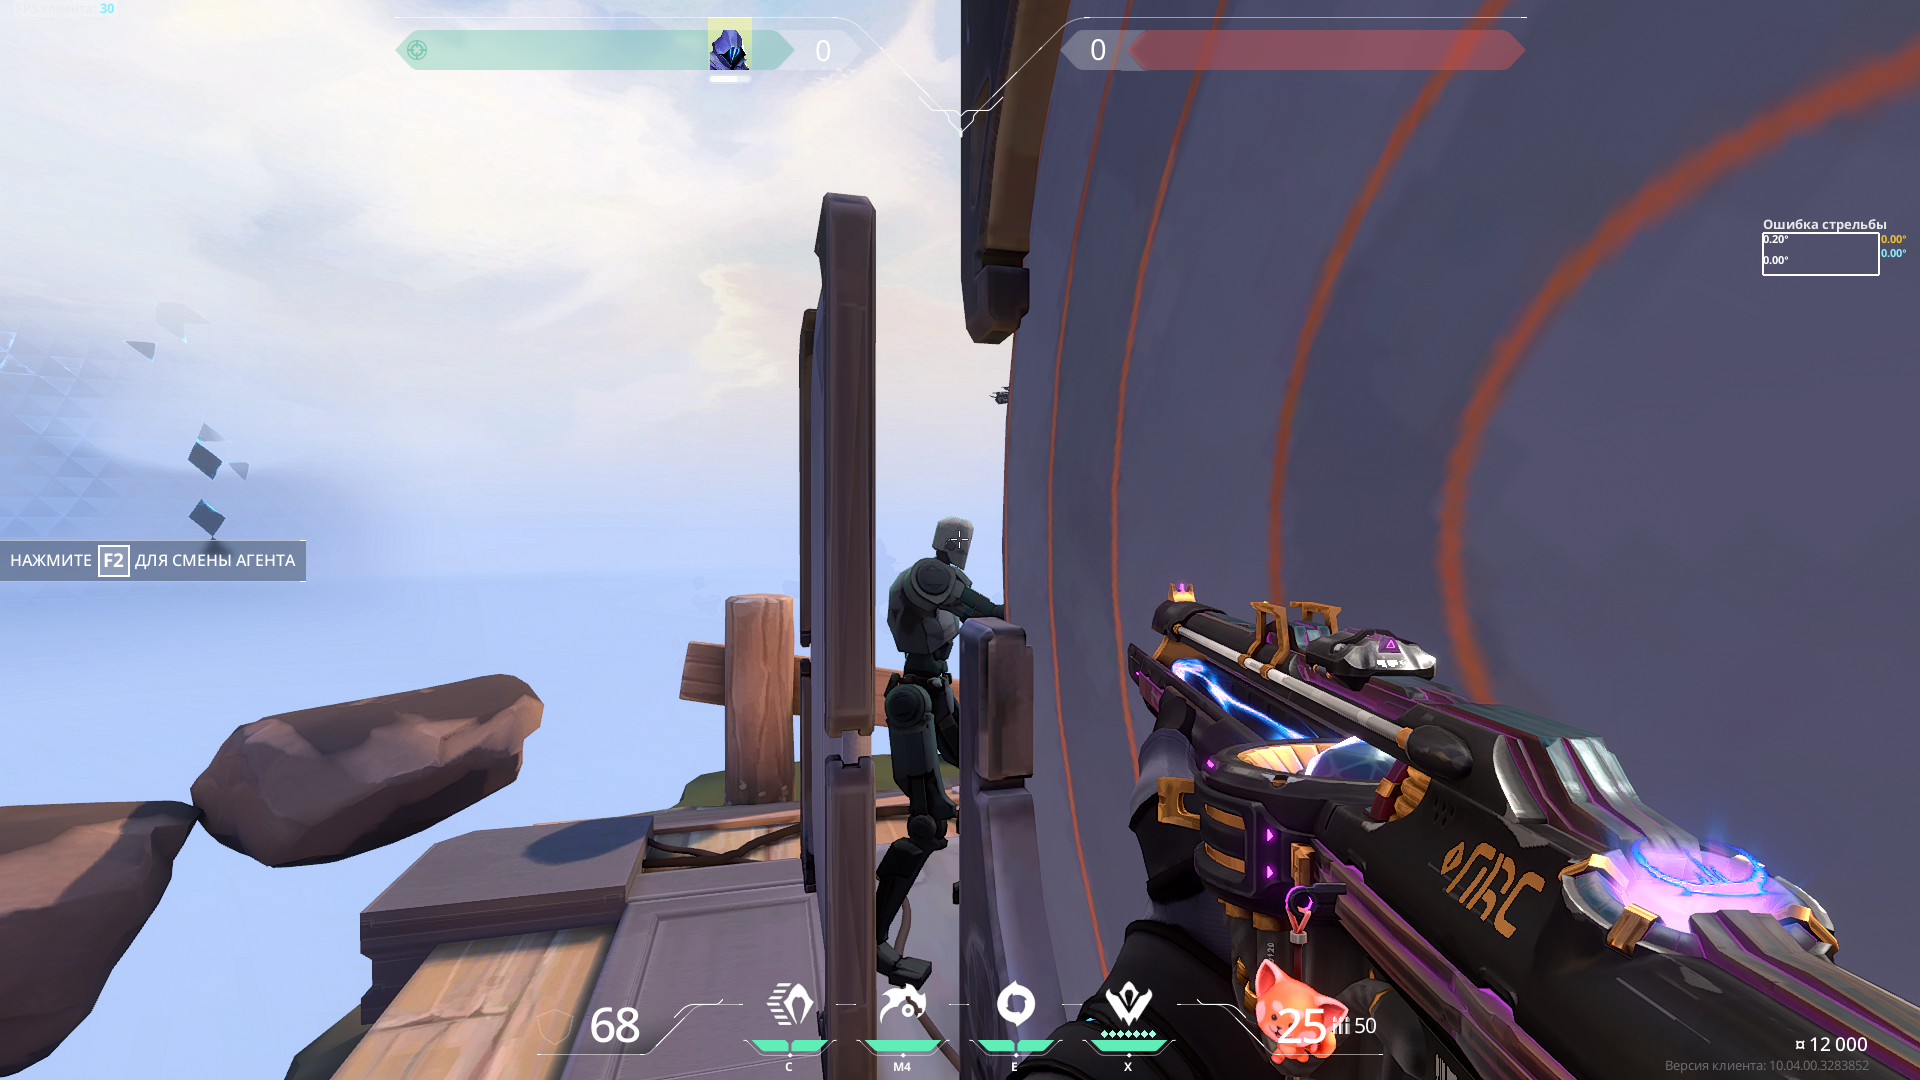head: (932, 516, 974, 570)
